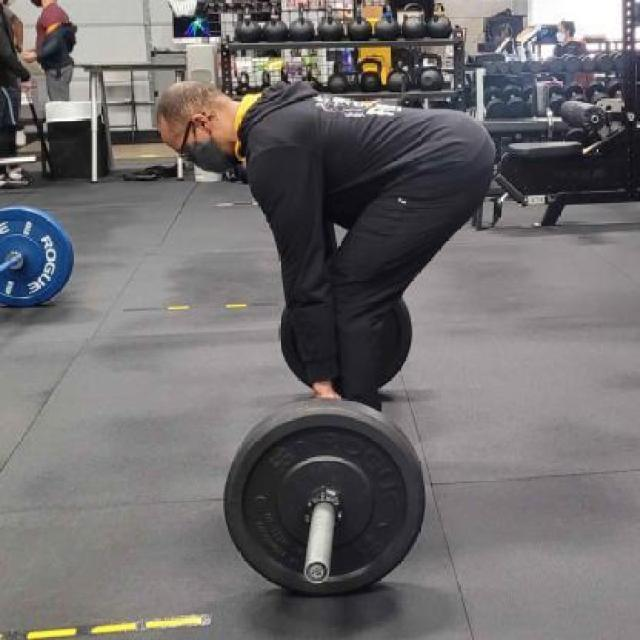barbell: (217, 389, 434, 611)
